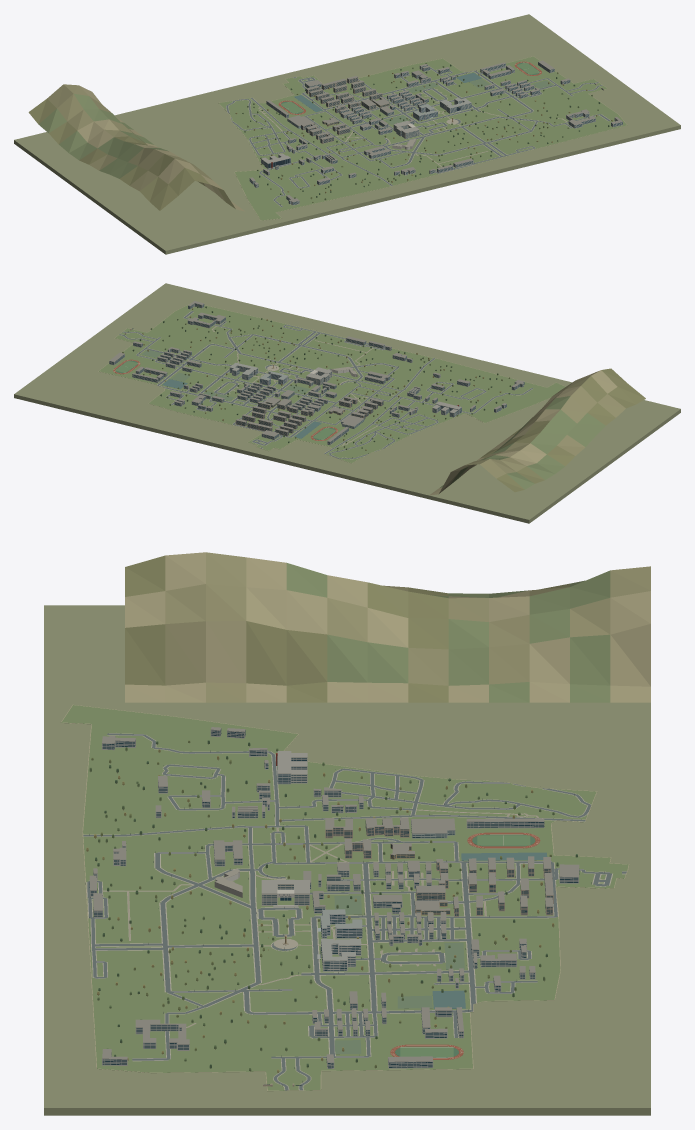
Rendered from lzu_yuzhong_demo_v2.glb.
The picture shows the model from 3 angles, top to bottom: view 1: azimuth 30°, elevation 25°; view 2: azimuth 150°, elevation 25°; view 3: azimuth 270°, elevation 25°; orthographic projection. The views are drawn at different scales.
Parts seen in each view (by area): view 1: terrain_campus | 校园地面, cuiying_mountain | 萃英山 · 简化山体, roads | 校园道路与步道, sports_fields | 田径场与球场, trees | 树木与绿化; view 2: terrain_campus | 校园地面, cuiying_mountain | 萃英山 · 简化山体, roads | 校园道路与步道, sports_fields | 田径场与球场, trees | 树木与绿化; view 3: terrain_campus | 校园地面, cuiying_mountain | 萃英山 · 简化山体, roads | 校园道路与步道, sports_fields | 田径场与球场, trees | 树木与绿化, kunlun | 昆仑堂 · 图书馆, tianshan | 天山堂, osm_232146096 | 闻韶楼, shulihe | 数理核学组团 · 位置示意, helan | 贺兰堂, osm_232146127 | 游泳馆, osm_464554926 | 校园建筑 464554926.
Part boxes in pixels (<box>): terrain_campus | 校园地面: <box>14,14,680,254</box>; cuiying_mountain | 萃英山 · 简化山体: <box>28,84,244,211</box>; roads | 校园道路与步道: <box>226,66,610,206</box>; sports_fields | 田径场与球场: <box>278,61,552,124</box>; trees | 树木与绿化: <box>235,63,612,202</box>; terrain_campus | 校园地面: <box>14,283,680,523</box>; cuiying_mountain | 萃英山 · 简化山体: <box>430,368,645,495</box>; roads | 校园道路与步道: <box>119,311,533,459</box>; sports_fields | 田径场与球场: <box>113,350,338,440</box>; trees | 树木与绿化: <box>122,306,510,450</box>; terrain_campus | 校园地面: <box>44,605,650,1115</box>; cuiying_mountain | 萃英山 · 简化山体: <box>125,552,650,702</box>; roads | 校园道路与步道: <box>83,733,626,1090</box>; sports_fields | 田径场与球场: <box>334,832,547,1059</box>; trees | 树木与绿化: <box>86,740,577,1072</box>; kunlun | 昆仑堂 · 图书馆: <box>261,879,309,907</box>; tianshan | 天山堂: <box>317,939,361,971</box>; osm_232146096 | 闻韶楼: <box>135,1019,189,1050</box>; shulihe | 数理核学组团 · 位置示意: <box>276,751,307,784</box>; helan | 贺兰堂: <box>317,909,362,938</box>; osm_232146127 | 游泳馆: <box>411,818,455,838</box>; osm_464554926 | 校园建筑 464554926: <box>466,818,544,828</box>.
Size of the model in its own units: 2500 by 252 by 1275.
